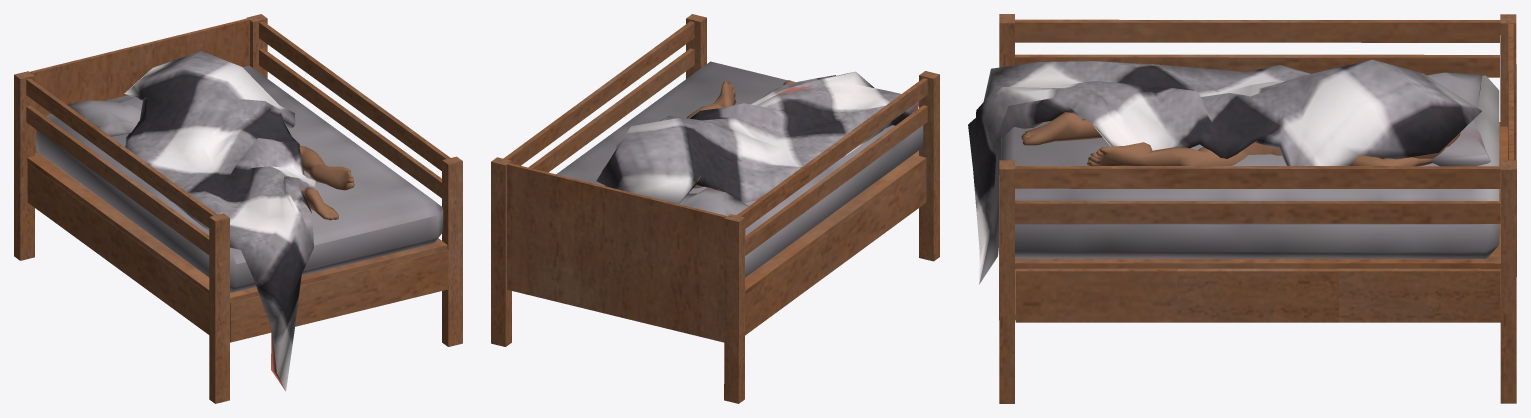
Rendered from Bed_01.fbx.
3 renders of one model, left to right at view 1: azimuth 30°, elevation 25°; view 2: azimuth 150°, elevation 25°; view 3: azimuth 270°, elevation 25°, orthographic. The views are drawn at different scales.
Visible parts, largest first — view 1: Bed_01, Bed_blanket; view 2: Bed_01, Bed_blanket; view 3: Bed_01, Bed_blanket.
Part boxes in pixels (box(x1,y1,x2,y2)): Bed_01: box(14, 14, 462, 403); Bed_blanket: box(124, 51, 316, 391); Bed_01: box(491, 14, 939, 403); Bed_blanket: box(596, 71, 918, 203); Bed_01: box(999, 14, 1516, 403); Bed_blanket: box(968, 59, 1481, 284).
Bounding box in the file's own units: 267 × 208 × 398.
